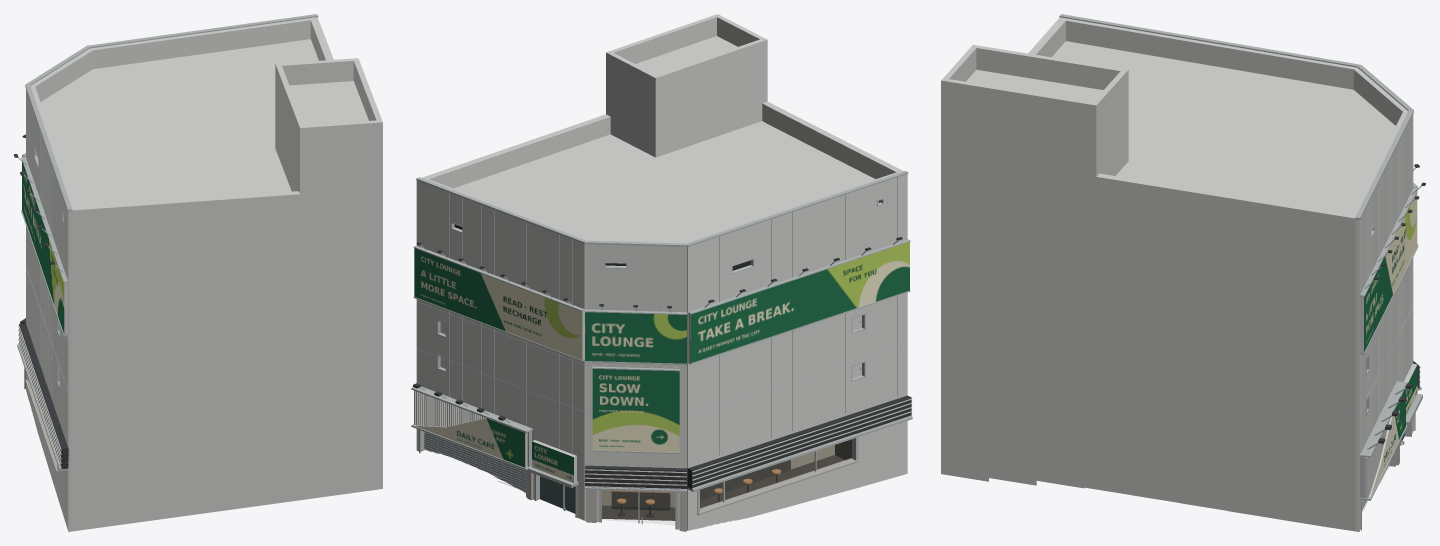
Rendered from d04-yokota.glb.
The picture shows the model from 3 angles, left to right: view 1: azimuth 30°, elevation 25°; view 2: azimuth 150°, elevation 25°; view 3: azimuth 270°, elevation 25°; orthographic projection. The views are drawn at different scales.
Visible parts, largest first — view 1: D04_Yokota_Retained_Host_26_Surfaces_RuntimeMerged, D04_Yokota_SharedOpaque__Yokota_off_white_cladding, D04_Yokota_SharedOpaque__Yokota_anodised_silver, D04_Yokota_N03_upper_exterior_candidate_RuntimeMerged, D04_Yokota_SharedOpaque__Yokota_dark_fascia, D04_Yokota_SharedOpaque__Yokota_seam_shadow, D04_Yokota_N04_storefront_candidate_RuntimeMerged; view 2: D04_Yokota_SharedOpaque__Yokota_off_white_cladding, D04_Yokota_Retained_Host_26_Surfaces_RuntimeMerged, D04_Yokota_N03_upper_exterior_candidate_RuntimeMerged, D04_Yokota_SharedOpaque__Yokota_anodised_silver, D04_Yokota_SharedOpaque__Yokota_seam_shadow, D04_Yokota_N04_storefront_candidate_RuntimeMerged, D04_Yokota_SharedOpaque__Yokota_dark_fascia, D04_Yokota_v002_REMOVABLE_INFERRED_RESTAURANT_SHALLOW_Runtim; view 3: D04_Yokota_Retained_Host_26_Surfaces_RuntimeMerged, D04_Yokota_SharedOpaque__Yokota_off_white_cladding, D04_Yokota_SharedOpaque__Yokota_anodised_silver, D04_Yokota_N03_upper_exterior_candidate_RuntimeMerged, D04_Yokota_SharedOpaque__Yokota_seam_shadow, D04_Yokota_N04_storefront_candidate_RuntimeMerged.
Part boxes in pixels (<box>): D04_Yokota_Retained_Host_26_Surfaces_RuntimeMerged: <box>30,17,382,531</box>; D04_Yokota_SharedOpaque__Yokota_off_white_cladding: <box>18,89,71,531</box>; D04_Yokota_SharedOpaque__Yokota_anodised_silver: <box>17,14,318,471</box>; D04_Yokota_N03_upper_exterior_candidate_RuntimeMerged: <box>22,162,64,333</box>; D04_Yokota_SharedOpaque__Yokota_dark_fascia: <box>14,134,69,468</box>; D04_Yokota_SharedOpaque__Yokota_seam_shadow: <box>25,130,68,403</box>; D04_Yokota_N04_storefront_candidate_RuntimeMerged: <box>24,368,58,472</box>; D04_Yokota_SharedOpaque__Yokota_off_white_cladding: <box>414,174,912,530</box>; D04_Yokota_Retained_Host_26_Surfaces_RuntimeMerged: <box>421,14,903,243</box>; D04_Yokota_N03_upper_exterior_candidate_RuntimeMerged: <box>414,242,909,452</box>; D04_Yokota_SharedOpaque__Yokota_anodised_silver: <box>411,170,912,529</box>; D04_Yokota_SharedOpaque__Yokota_seam_shadow: <box>416,177,907,493</box>; D04_Yokota_N04_storefront_candidate_RuntimeMerged: <box>415,418,858,531</box>; D04_Yokota_SharedOpaque__Yokota_dark_fascia: <box>413,237,911,489</box>; D04_Yokota_v002_REMOVABLE_INFERRED_RESTAURANT_SHALLOW_Runtim: <box>602,439,851,520</box>; D04_Yokota_Retained_Host_26_Surfaces_RuntimeMerged: <box>941,17,1407,531</box>; D04_Yokota_SharedOpaque__Yokota_off_white_cladding: <box>1355,114,1420,531</box>; D04_Yokota_SharedOpaque__Yokota_anodised_silver: <box>1059,14,1422,530</box>; D04_Yokota_N03_upper_exterior_candidate_RuntimeMerged: <box>1364,192,1417,352</box>; D04_Yokota_SharedOpaque__Yokota_seam_shadow: <box>1359,122,1413,512</box>; D04_Yokota_N04_storefront_candidate_RuntimeMerged: <box>1362,364,1417,509</box>.
Size of the model in its own units: 17.43 by 16.35 by 17.19.
23 materials, 6 textured.
